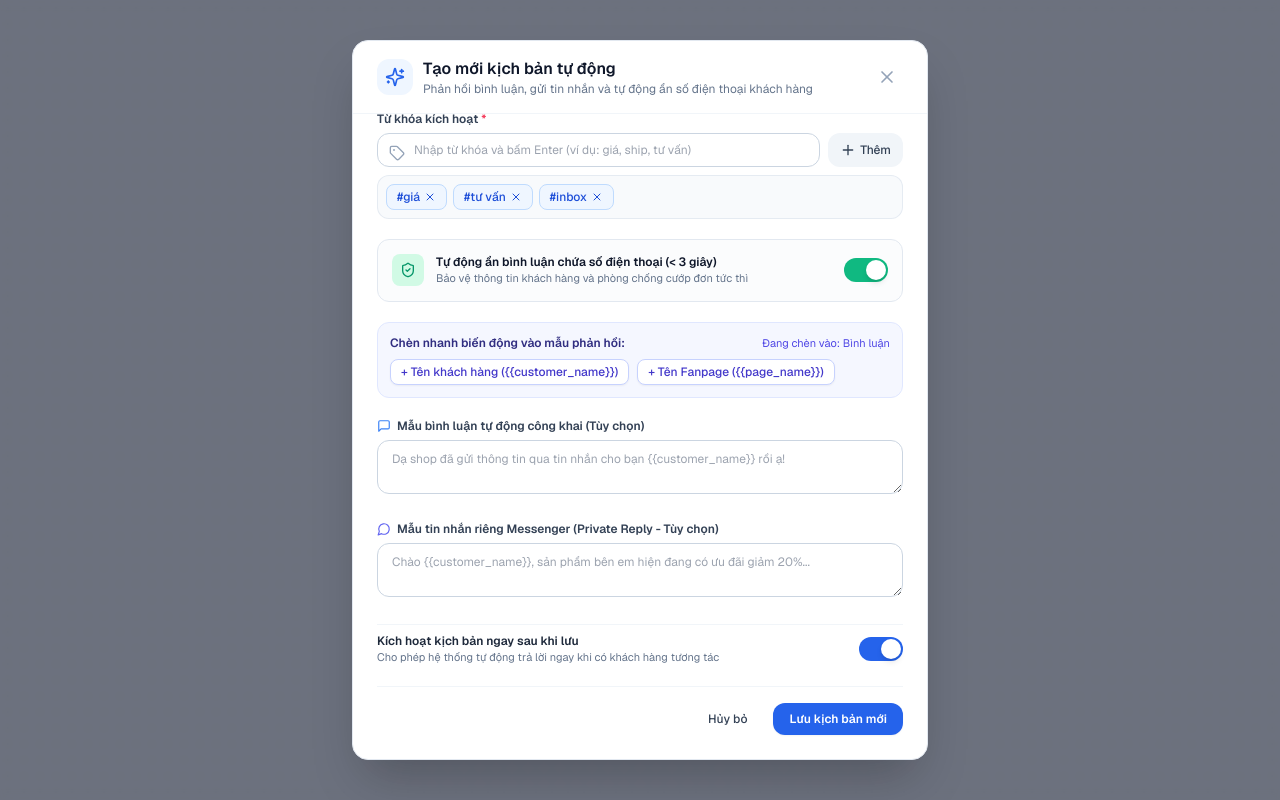
it: Automation Rules Subsystem (TASK-18) › 2. RuleModal Component › hiển thị cảnh báo lỗi khi submit tên quy tắc trống
The image size is (1280, 800).
(page scrolled)
Click the button "Lưu kịch bản mới".
click(838, 718)  # box [773,702,903,734]
(page scrolled)
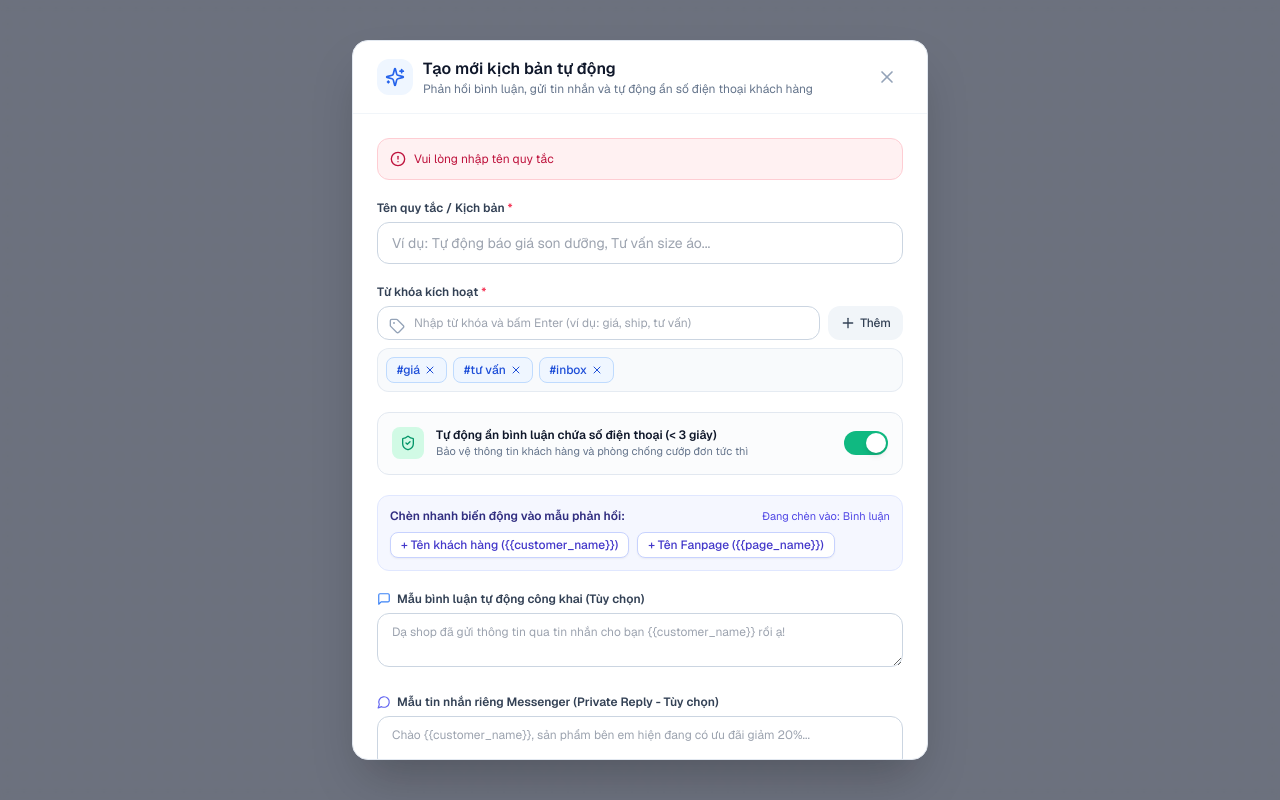
expect the text "Vui lòng nhập tên quy tắc" is shown: met, box [414,151,554,167]
